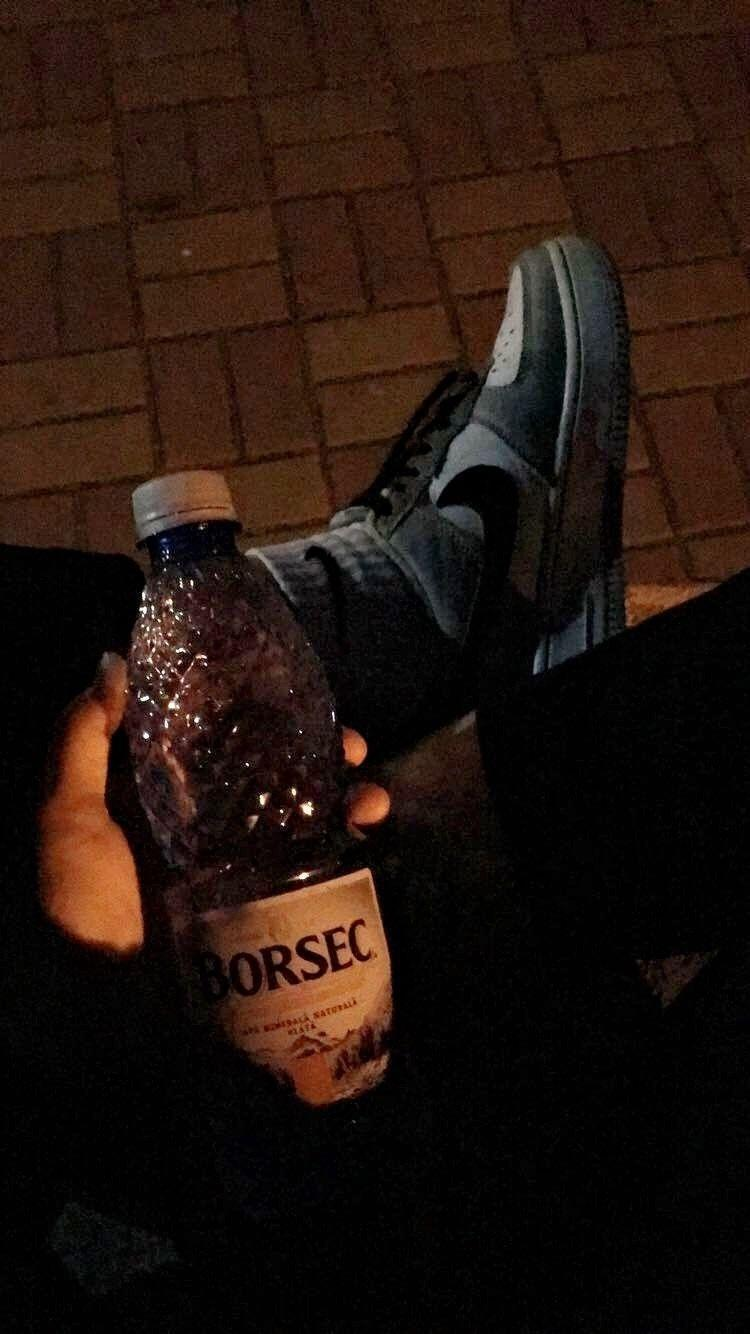bottle-plastic: (112, 466, 409, 1126)
